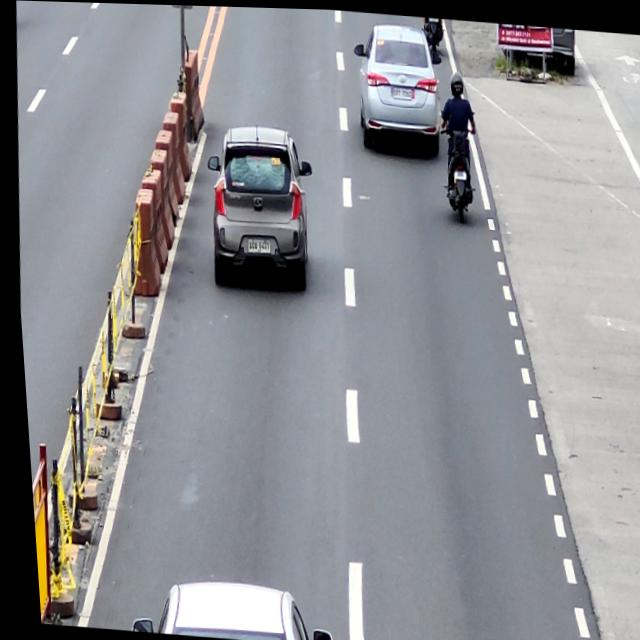Car: (198, 120, 317, 295), (346, 19, 448, 154)
License-Plate: (244, 237, 267, 253), (390, 84, 411, 99), (451, 166, 465, 178)
Motorcycle: (431, 104, 480, 222)
